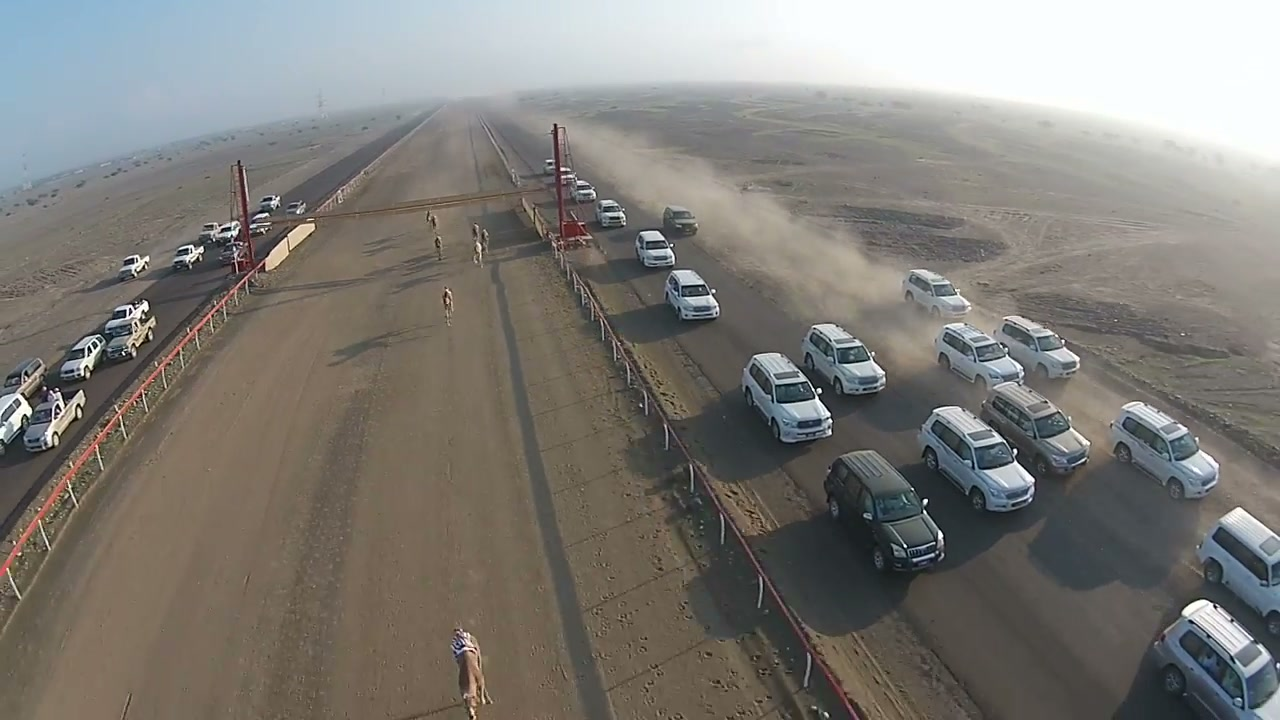animal_footprint: (564, 391, 789, 711), (542, 392, 699, 719)
